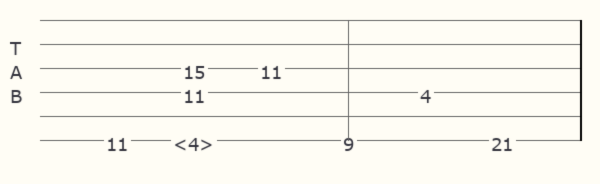11: (106, 132, 132, 149), (183, 84, 209, 101), (260, 60, 286, 77)
15: (183, 60, 209, 77)
21: (491, 132, 517, 149)
4: (420, 84, 435, 101)
9: (343, 132, 358, 149)
harmonic: (173, 132, 218, 149)
